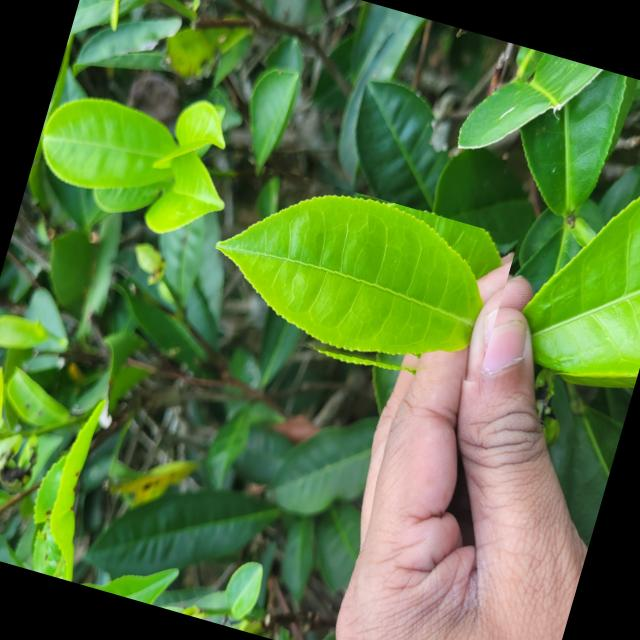Catagory A(1-2 days): (186, 156, 518, 402)
